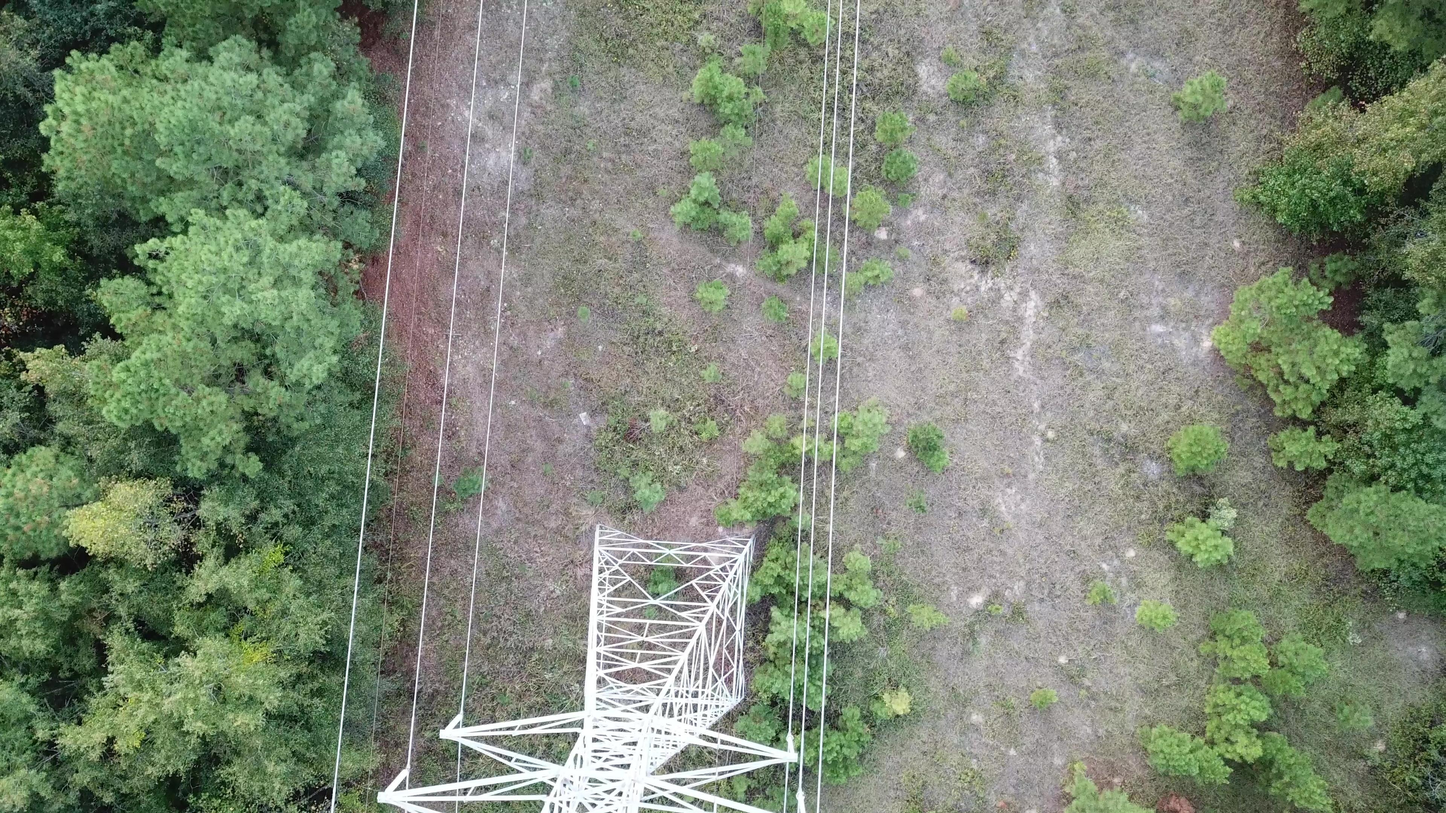power_tower: (377, 524, 798, 813)
